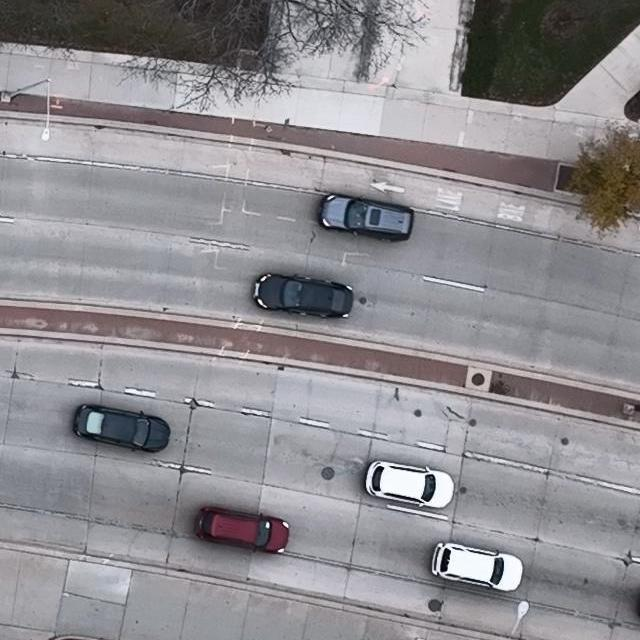car: (73, 402, 170, 451), (431, 540, 524, 591), (253, 272, 353, 319), (364, 459, 455, 510), (320, 192, 414, 240), (194, 506, 290, 553)
